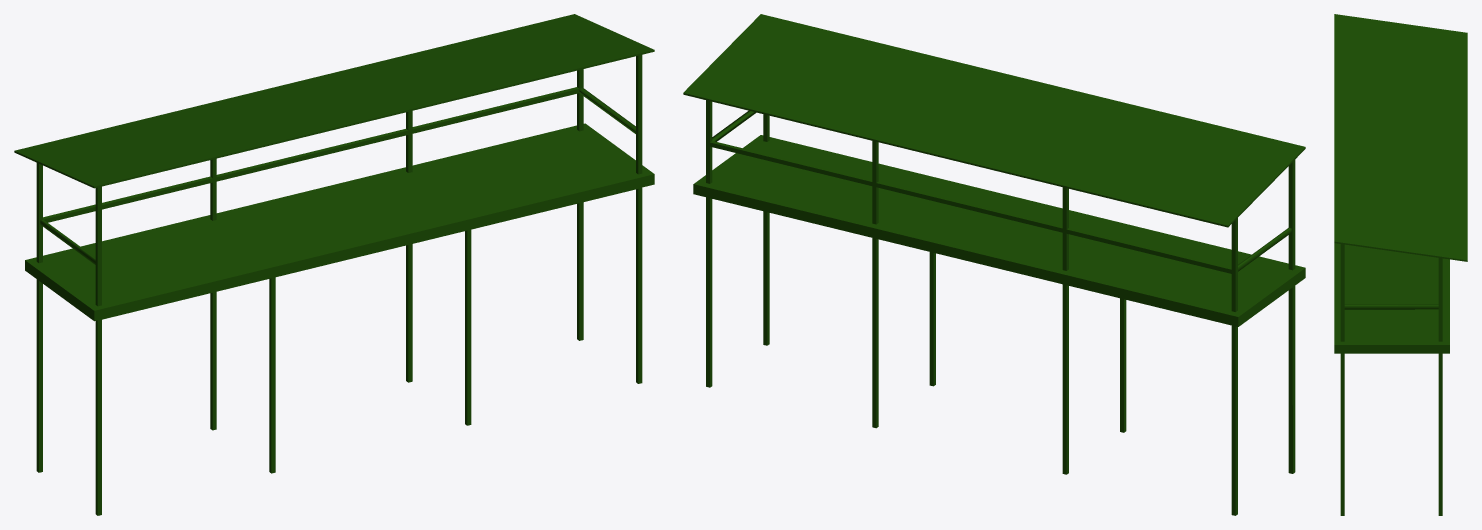
The model's file is T2_CamHut01.fbx.
3 views of the same model, side by side, from view 1: azimuth 30°, elevation 25°; view 2: azimuth 150°, elevation 25°; view 3: azimuth 270°, elevation 25° (orthographic). The views are drawn at different scales.
Visible parts, largest first — view 1: T2_CamHut01; view 2: T2_CamHut01; view 3: T2_CamHut01.
Boxes of the visible parts, left/top/right/bottom form: T2_CamHut01: left=14, top=14, right=654, bottom=515; T2_CamHut01: left=683, top=14, right=1305, bottom=515; T2_CamHut01: left=1334, top=14, right=1467, bottom=515.
Size of the model in its own units: 5.47 by 3.11 by 1.35.
